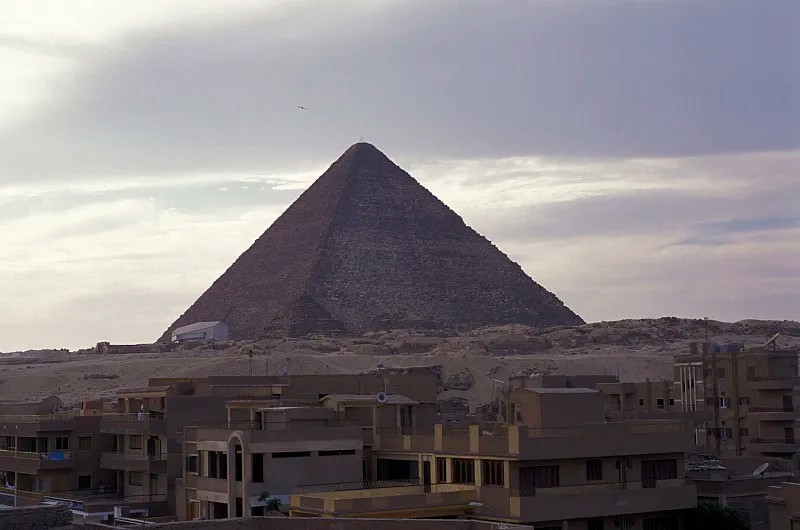Pyramid: (156, 141, 589, 336)
